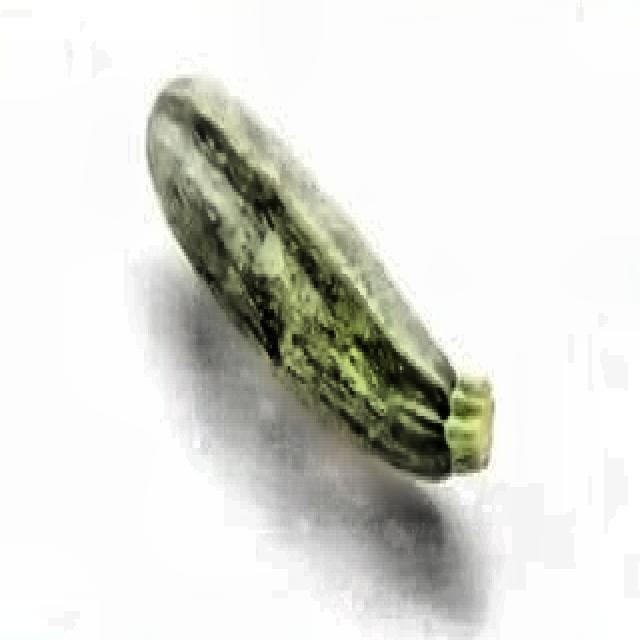Vegetable: (145, 11, 524, 472)
